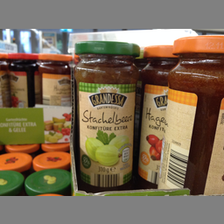jam: (160, 36, 224, 195), (75, 41, 142, 190), (38, 52, 74, 107), (7, 53, 38, 108)
